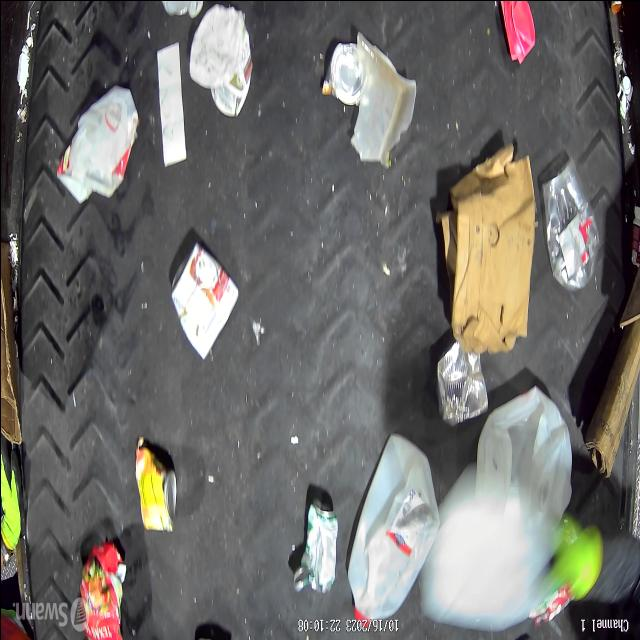can: (168, 240, 238, 360), (432, 336, 487, 426), (133, 444, 176, 531), (302, 496, 337, 594), (320, 42, 368, 106)
milk_jug: (419, 460, 560, 628), (468, 388, 571, 584), (344, 431, 436, 620), (56, 81, 140, 200)
